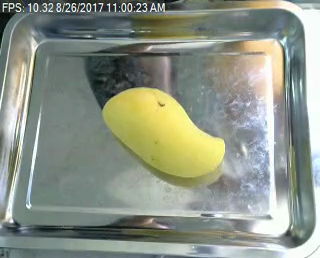Mango: (95, 83, 230, 186)
